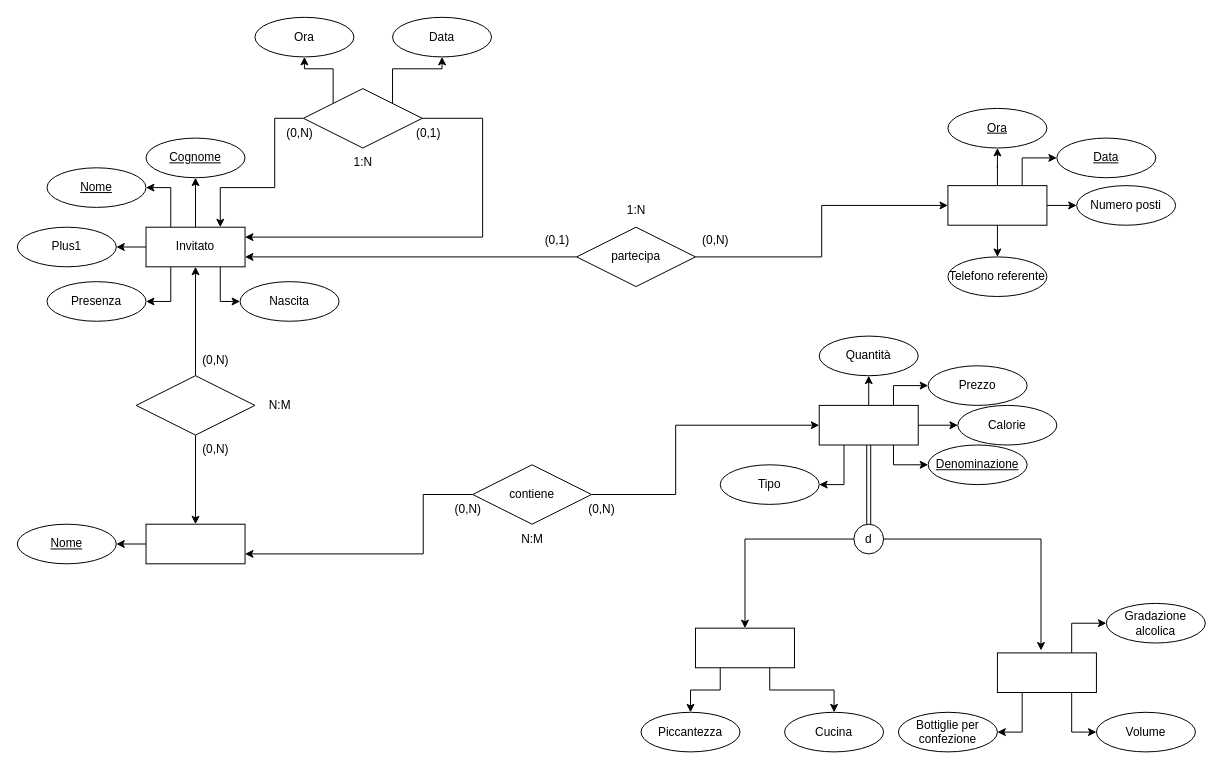
This 1223x769 diagram has some shape labels left out. Each missing label, with the box of its shape:
Allergene: (145, 523, 245, 564)
allergico a: (135, 375, 255, 435)
Bevande: (996, 652, 1096, 693)
Cibo: (694, 627, 794, 668)
Consumabile: (818, 404, 918, 445)
passaggio: (302, 88, 422, 148)
Turno: (947, 185, 1047, 225)
